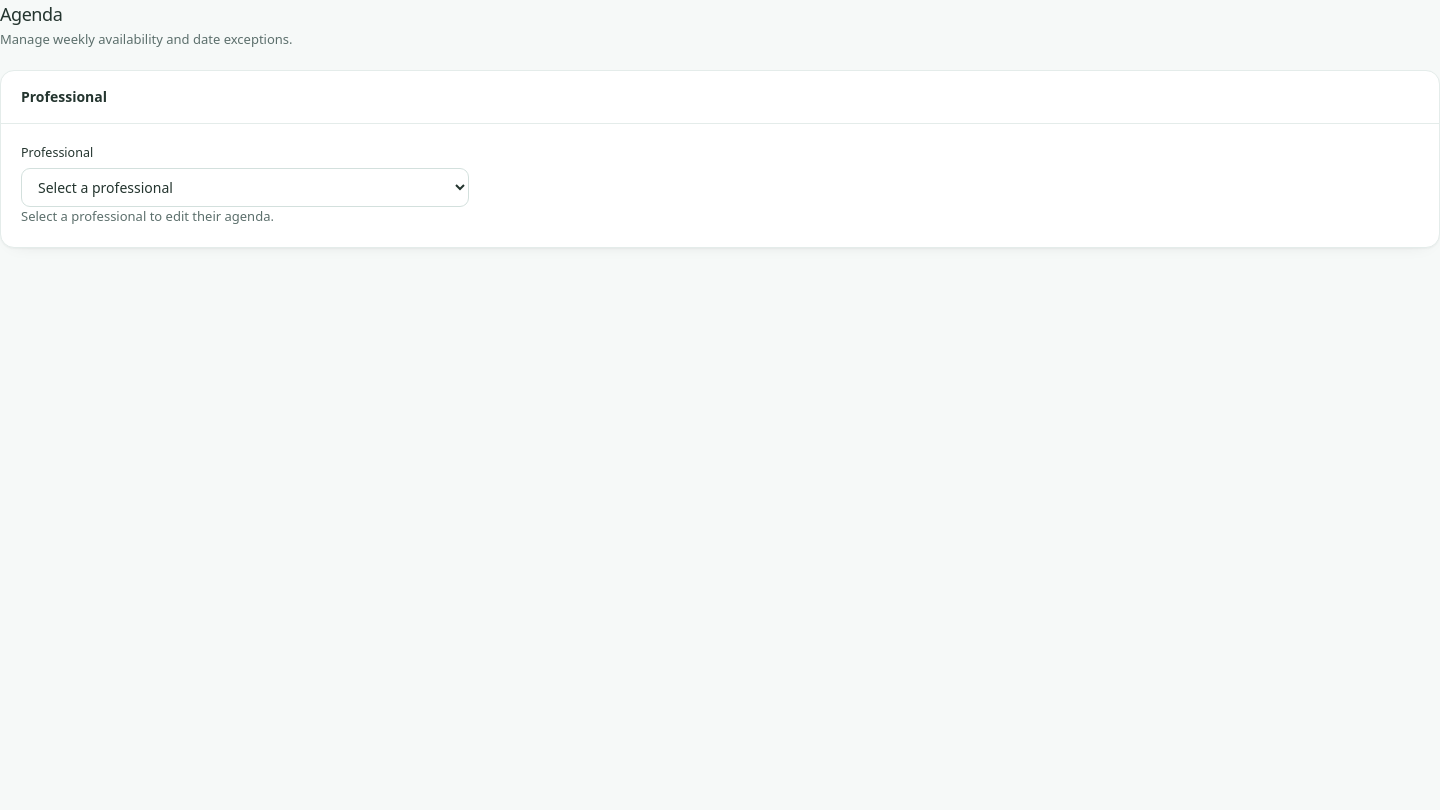
Scenario: AgendaPage › adds a full-day exception through the POST and shows it in the list
Select "Laura Gómez" in the dropdown labelled "Professional": (245, 188) [21,168,469,207]
(page scrolled)
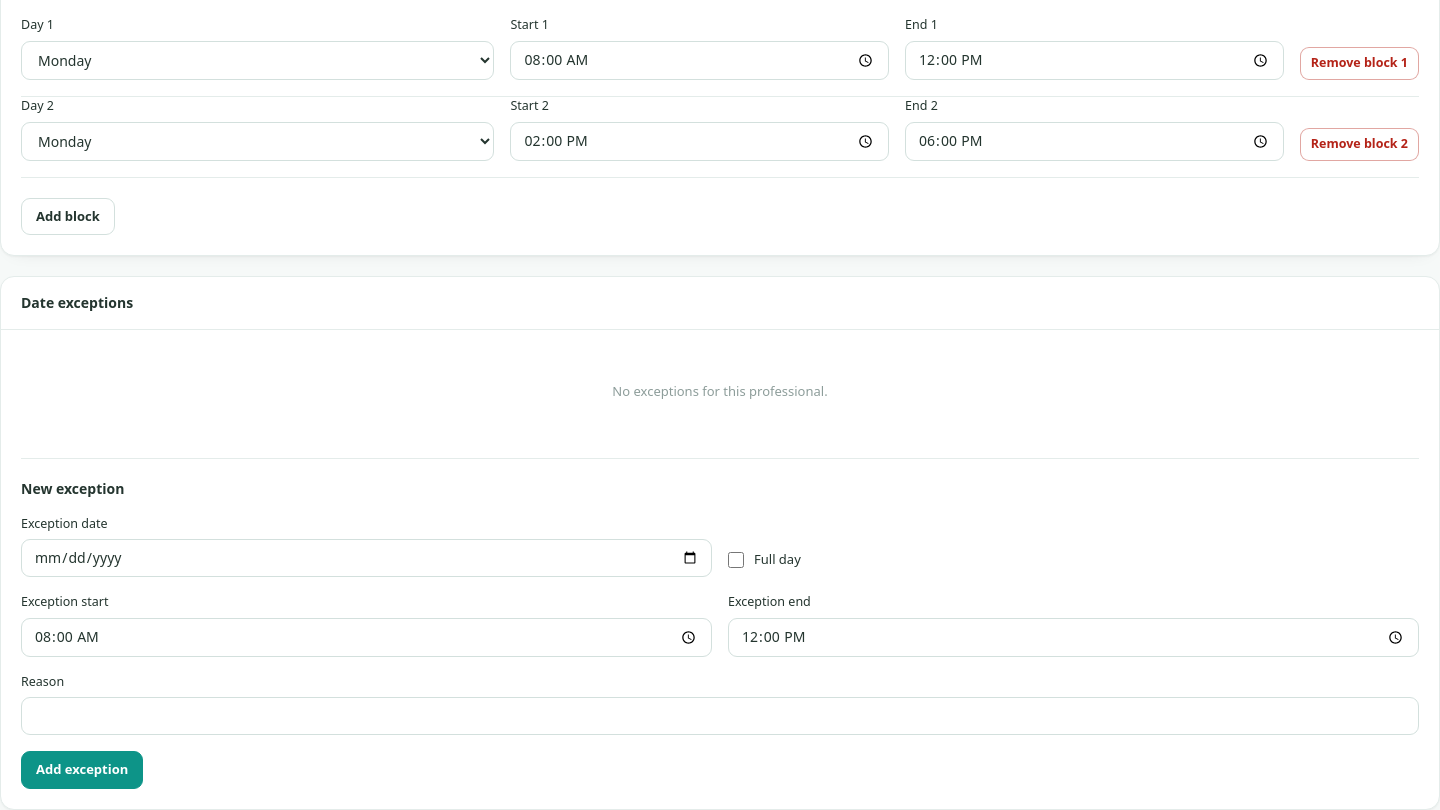
In the date field labelled "Exception date": (366, 558) [21,539,712,577], type "2026-12-25"
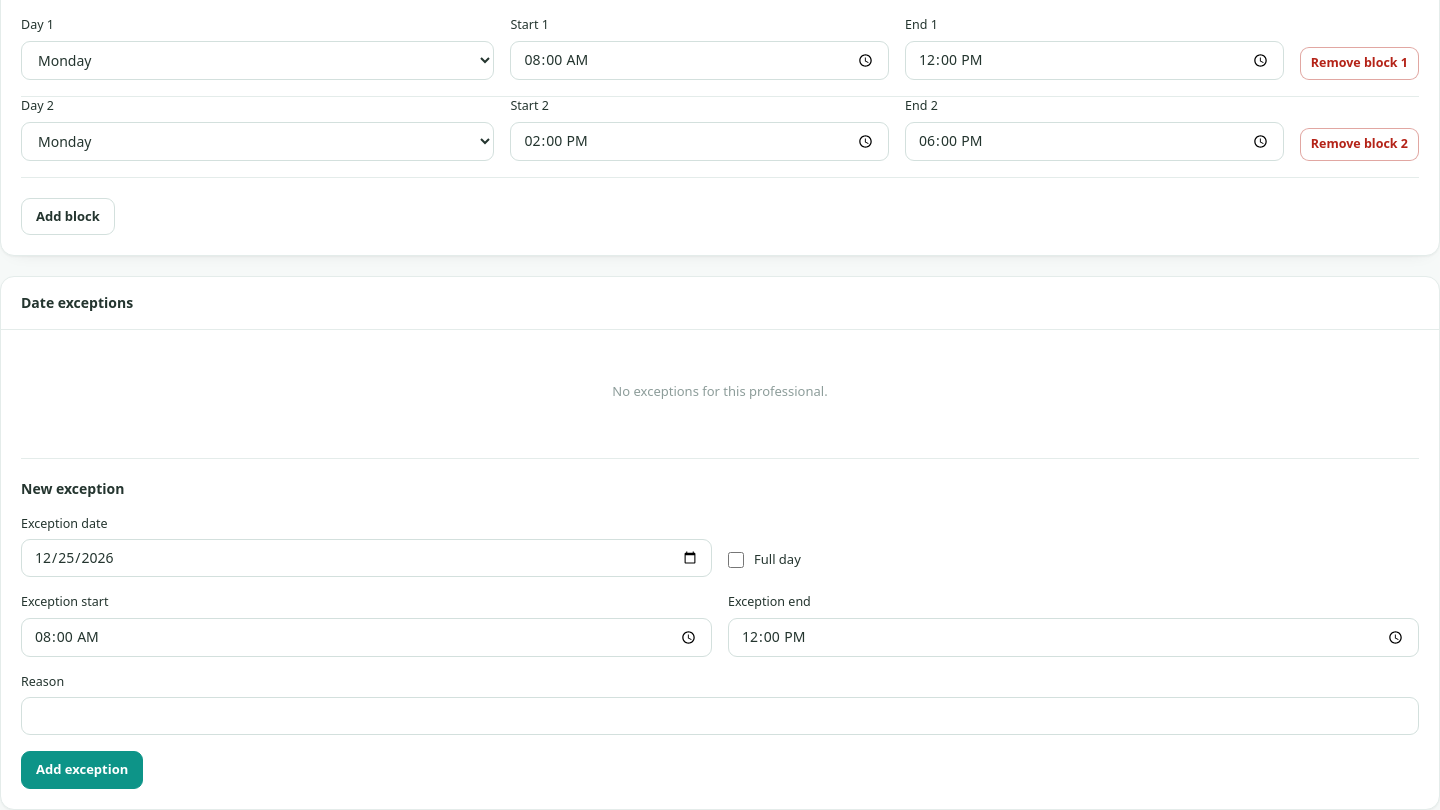
Click the checkbox labelled "Full day": (736, 560) [728,552,744,568]
(page scrolled)
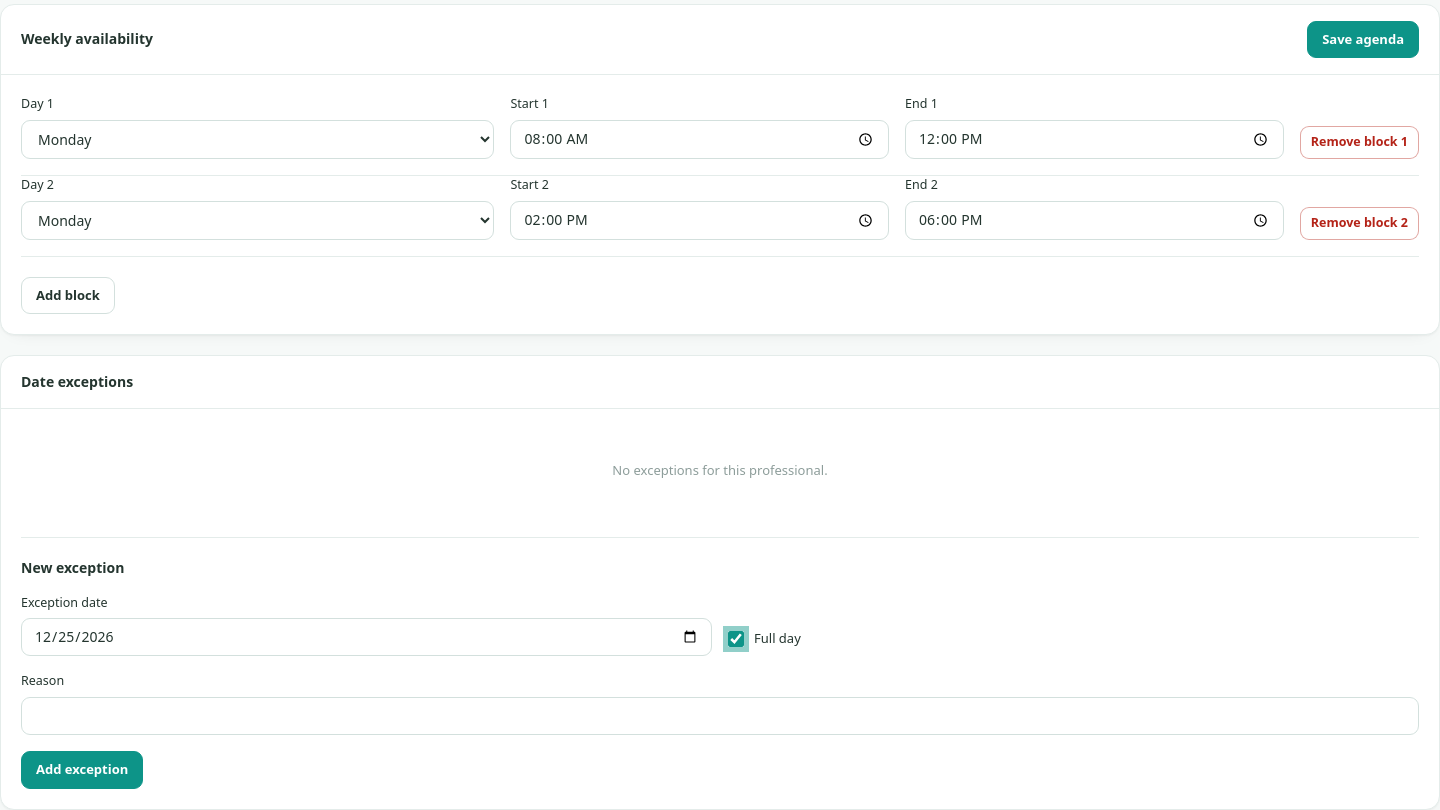
In the field labelled "Reason": (720, 716) [21,697,1419,735], type "Christmas"
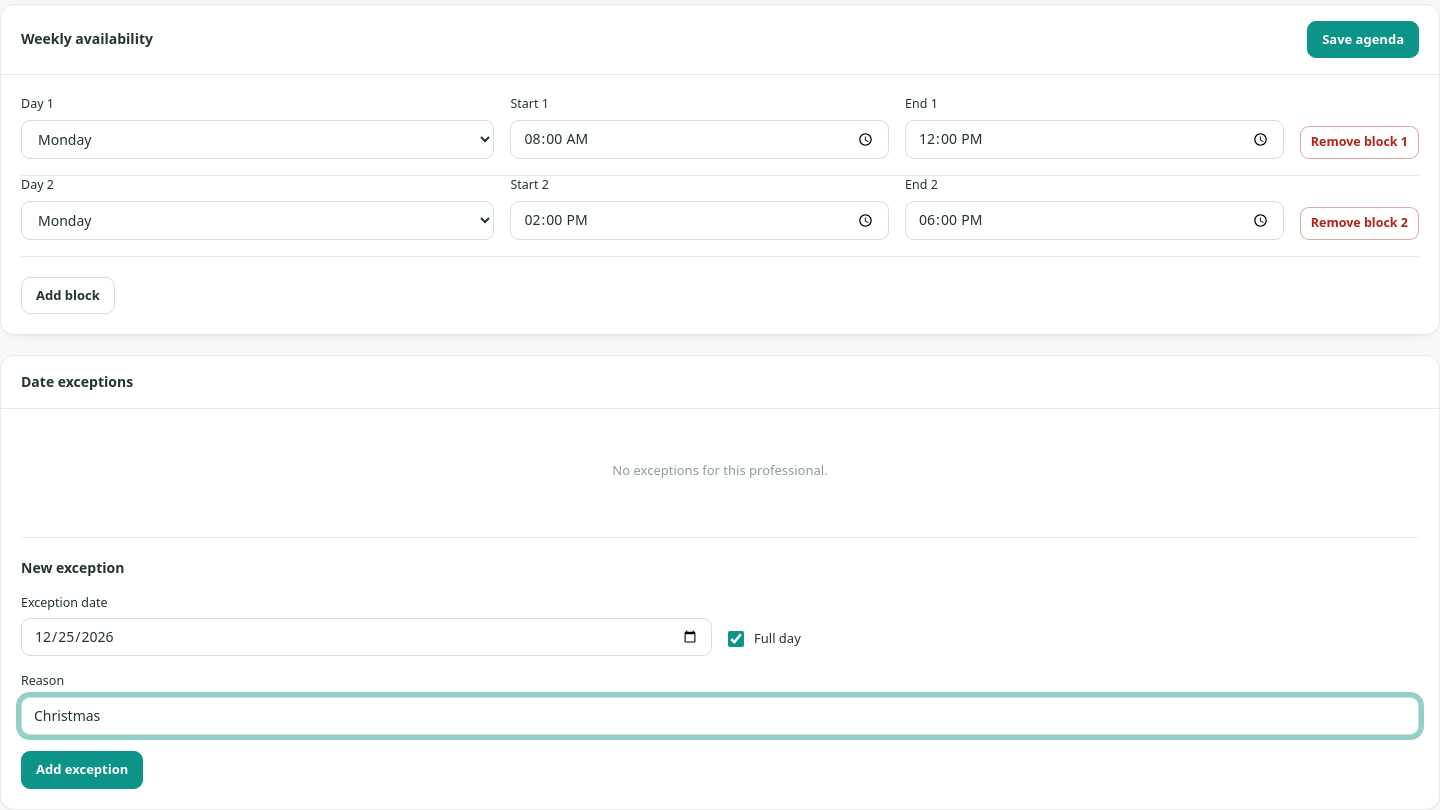
Click the button "Add exception": (82, 770) [21,751,143,788]
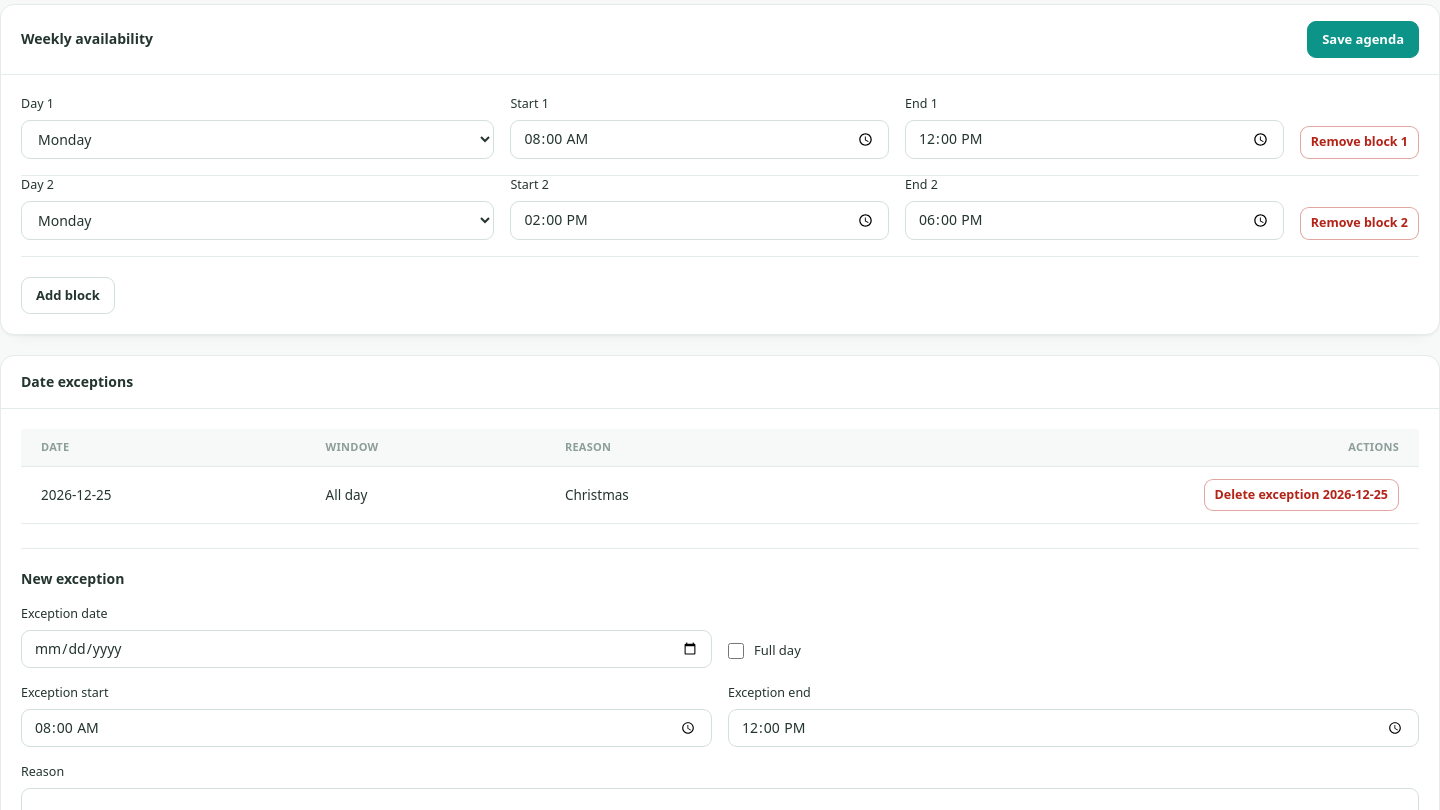
Check: the text "Christmas" is shown, box [545,466,813,524]
